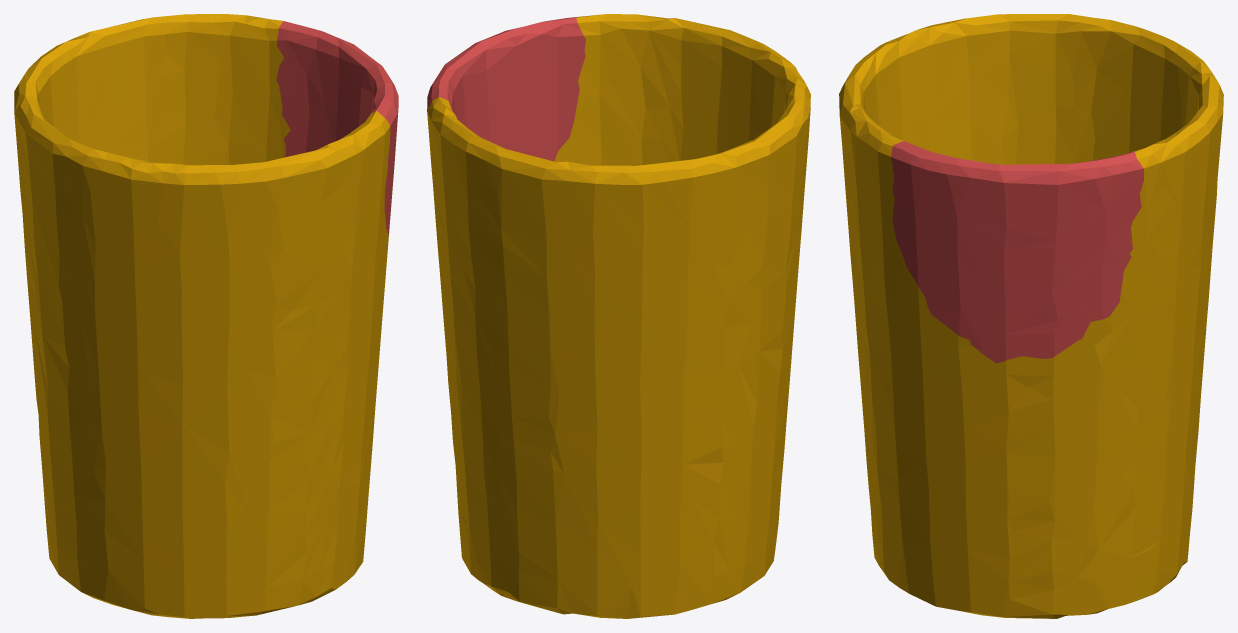
File: fractured_61_2pcs.glb
3 renders of one model, left to right at view 1: azimuth 30°, elevation 25°; view 2: azimuth 150°, elevation 25°; view 3: azimuth 270°, elevation 25°, orthographic.
Visible parts, largest first — view 1: piece_0.obj, piece_1.obj; view 2: piece_0.obj, piece_1.obj; view 3: piece_0.obj, piece_1.obj.
Boxes of the visible parts, x1,y1,x2,y2 form: piece_0.obj: (14,14,390,618); piece_1.obj: (276,21,398,235); piece_0.obj: (427,14,810,618); piece_1.obj: (427,17,585,161); piece_0.obj: (839,14,1223,618); piece_1.obj: (891,141,1143,363).
Bounding box in the file's own units: 0.7449 × 1 × 0.746.
